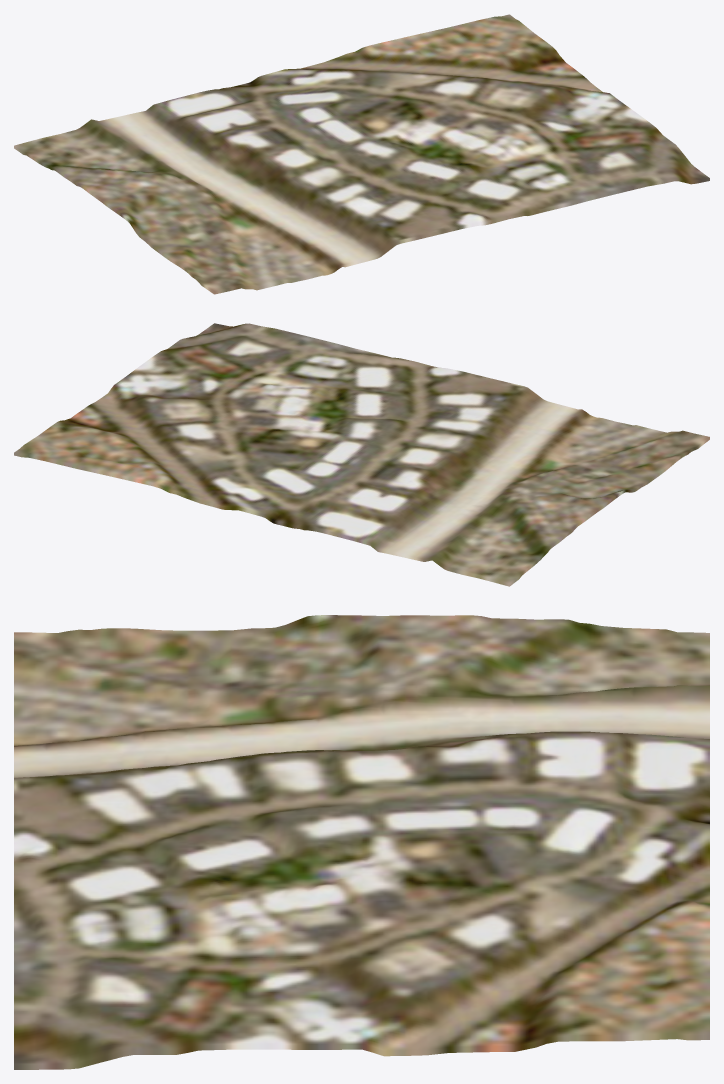
File: terrain_r7_c7_lod1.glb
3 renders of one model, top to bottom at view 1: azimuth 30°, elevation 25°; view 2: azimuth 150°, elevation 25°; view 3: azimuth 270°, elevation 25°, orthographic. The views are drawn at different scales.
Visible parts, largest first — view 1: terrain_r7_c7_lod1; view 2: terrain_r7_c7_lod1; view 3: terrain_r7_c7_lod1.
Part boxes in pixels (x1,y1,x2,y2): terrain_r7_c7_lod1: (14,14,709,294); terrain_r7_c7_lod1: (14,323,709,586); terrain_r7_c7_lod1: (14,615,709,1069).
Size of the model in its own units: 1125 by 52.67 by 787.
Materials: 1 (1 with a texture image).
